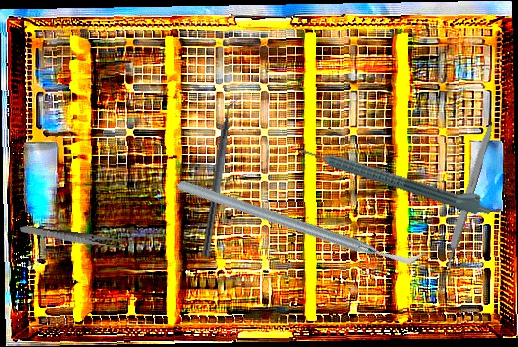Chopper: (175, 99, 428, 344), (201, 92, 244, 259)
Dressing Forceps: (18, 224, 131, 251)
Handpiece: (299, 135, 495, 220)
Scalpel Handle: (441, 120, 496, 268)
